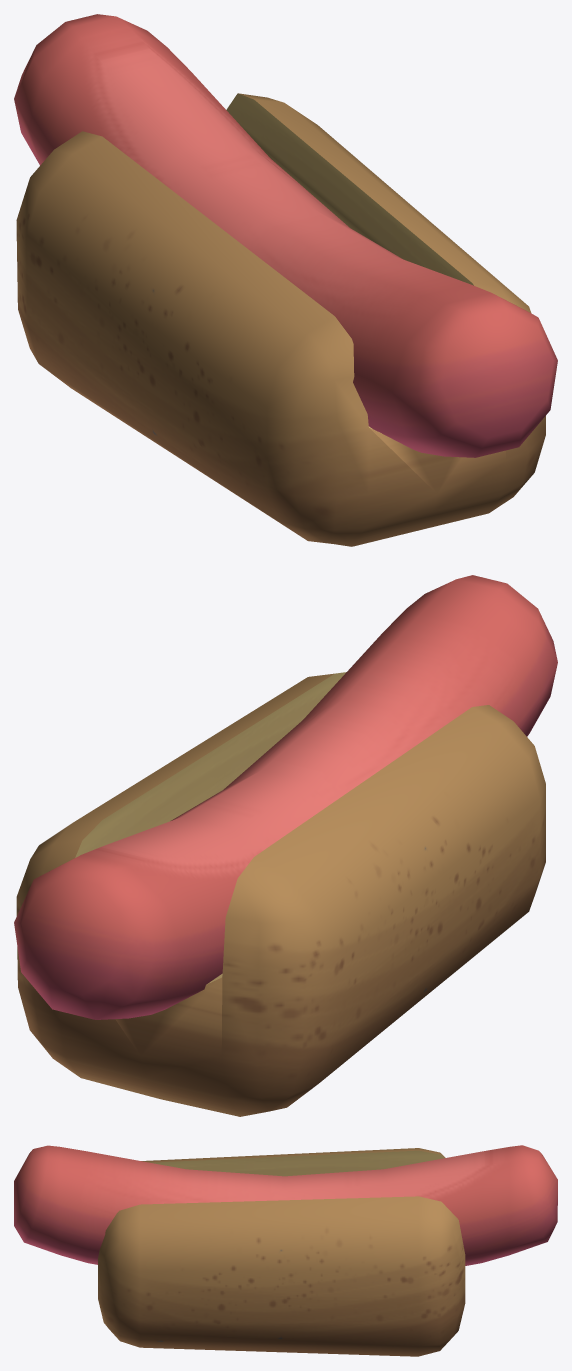
Rendered from HotDog.fbx.
The picture shows the model from 3 angles, top to bottom: view 1: azimuth 30°, elevation 25°; view 2: azimuth 150°, elevation 25°; view 3: azimuth 270°, elevation 25°; orthographic projection. The views are drawn at different scales.
Parts seen in each view (by area): view 1: Hot Dog; view 2: Hot Dog; view 3: Hot Dog.
Part boxes in pixels (x1,y1,x2,y2): Hot Dog: (14, 14, 557, 546); Hot Dog: (14, 575, 557, 1116); Hot Dog: (14, 1145, 557, 1356).
Bounding box in the file's own units: 13.31 × 12.24 × 33.23.
